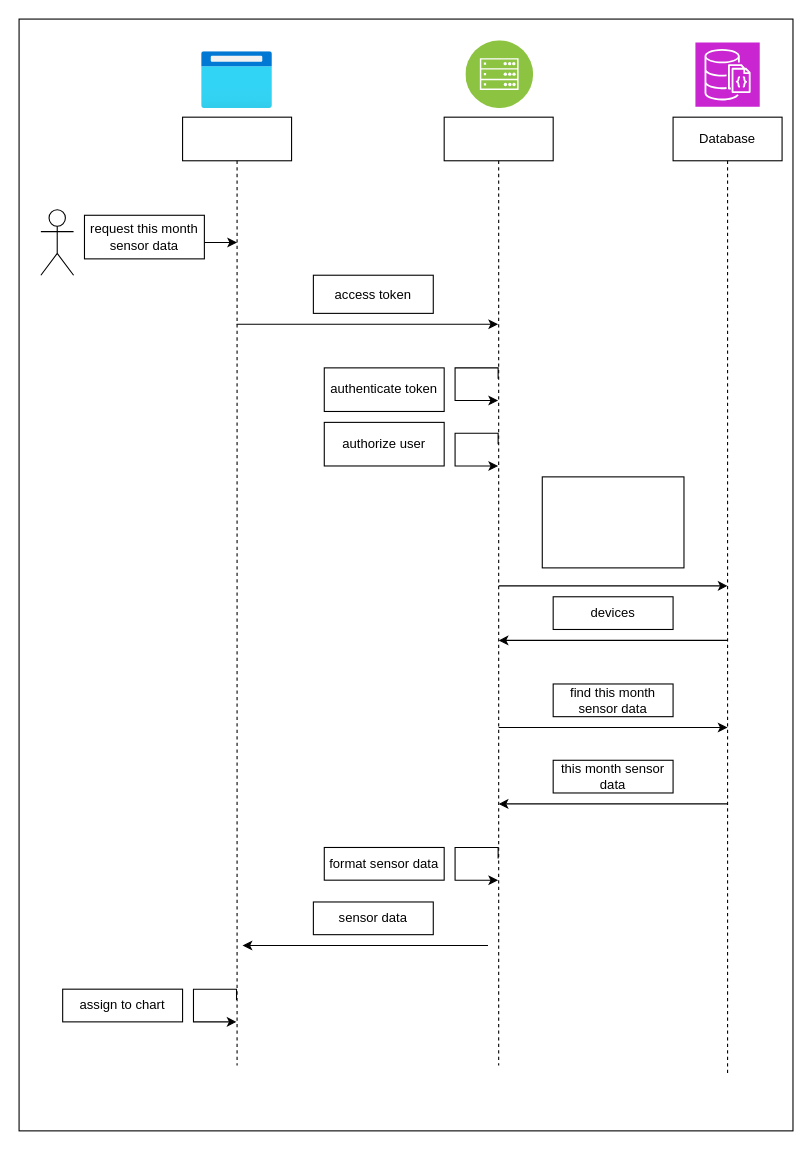
This 812x1150 diagram has some shape labels left out. Here are the shapes that lost their labels. From the top down, the box of each, then its label:
(40, 209, 74, 275): User
(541, 476, 684, 568): for admin, find all devices for farmer, finf device by userid
(181, 116, 292, 1065): Frontend
(443, 116, 553, 1065): Backend
